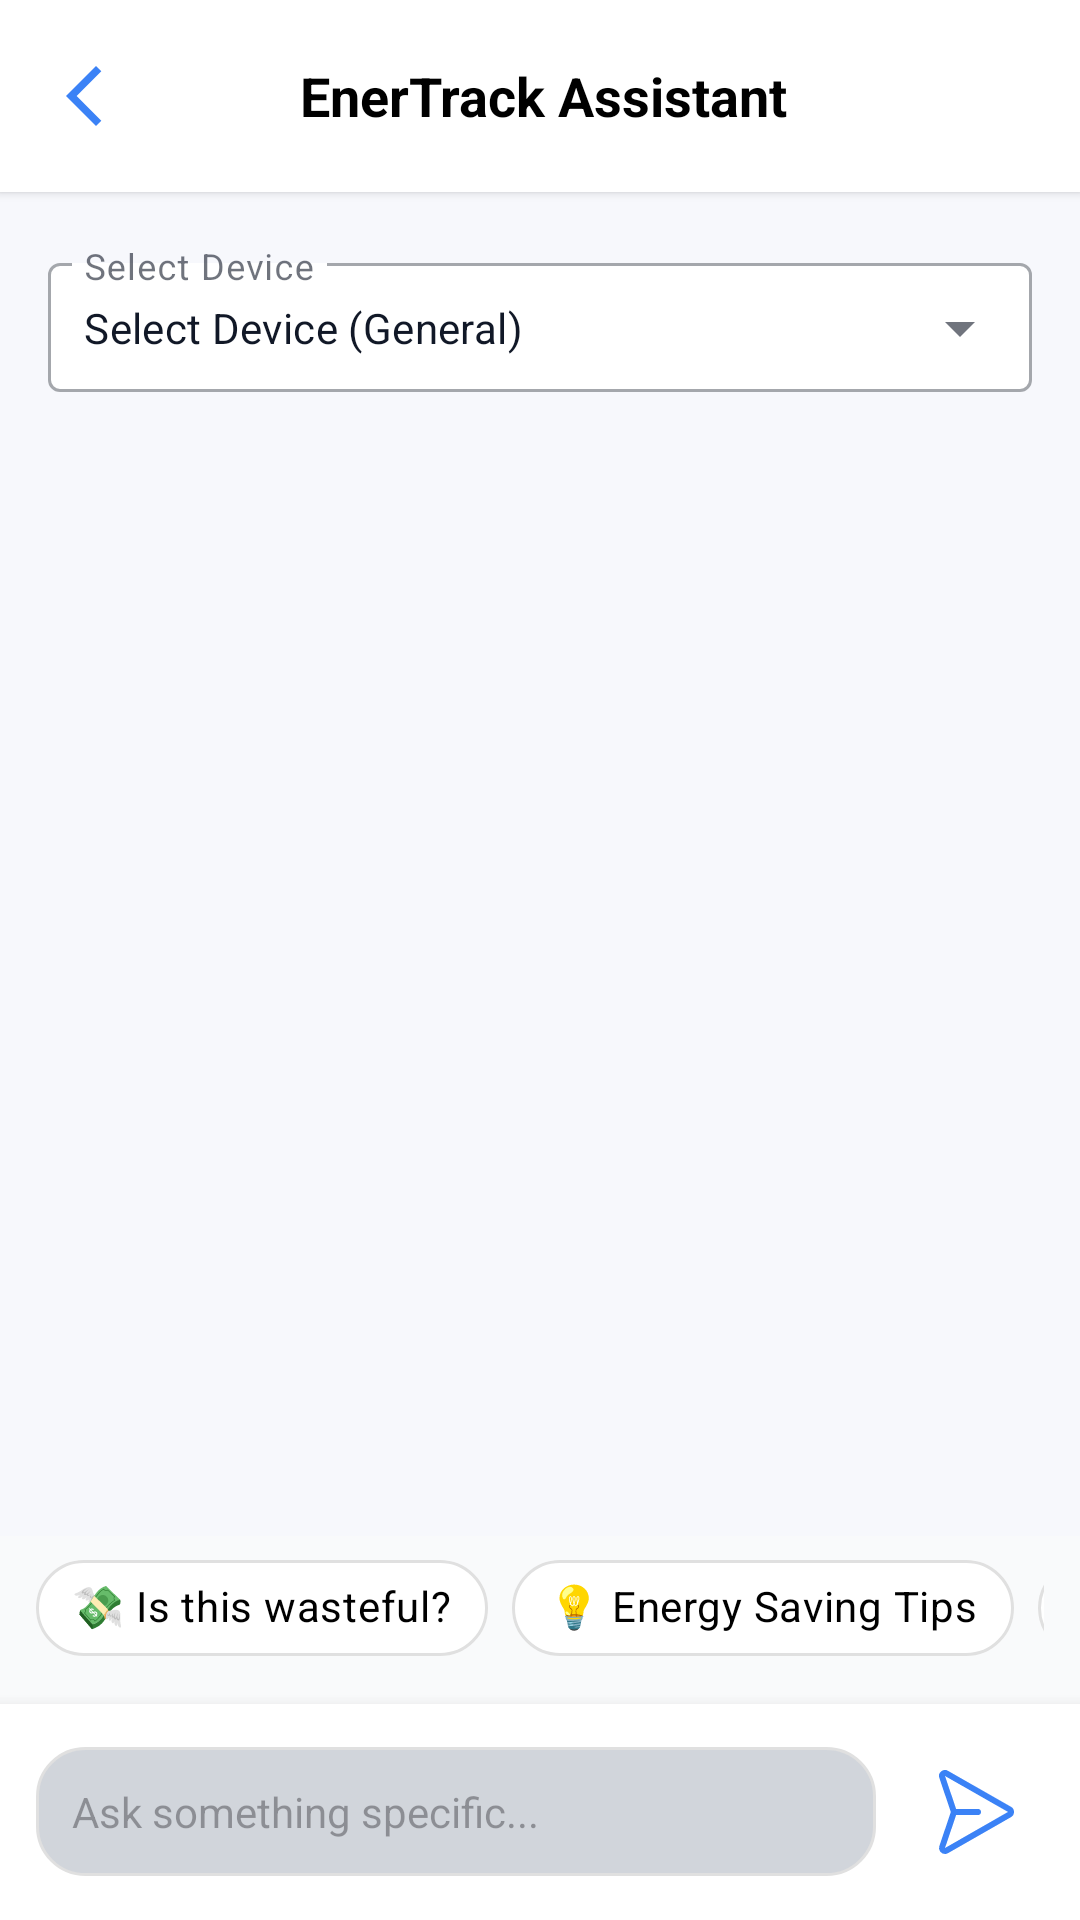

Icon click points for this 1080 × 1920 phone screenshot, format (x=x, y=y):
arrow back: (x=83, y=96)
send: (x=976, y=1812)
